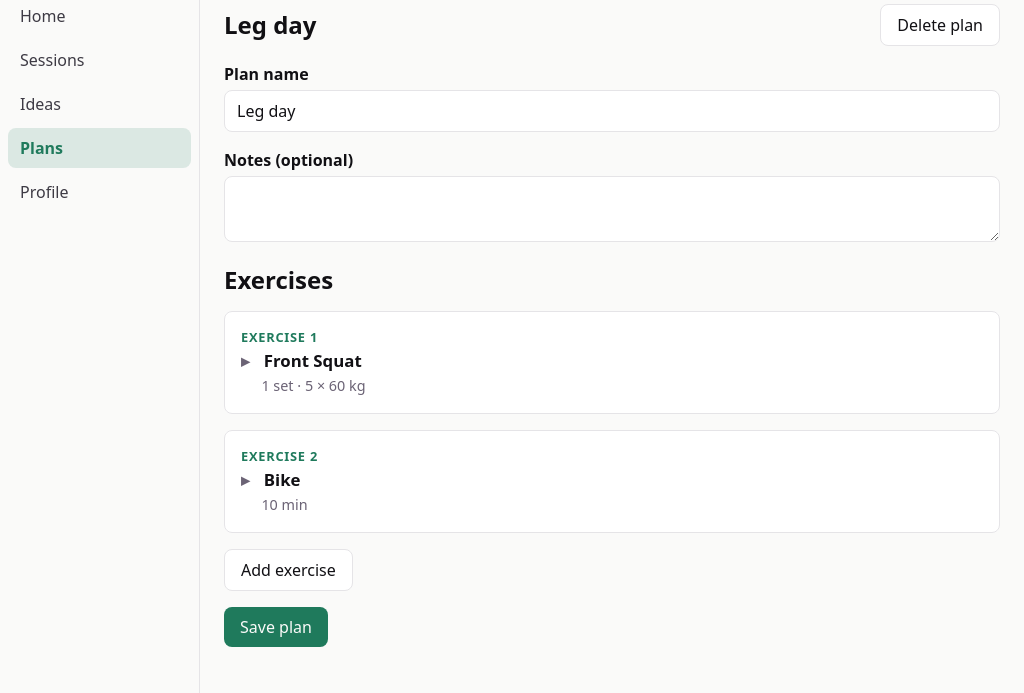
Test case: editing a plan › offers Save as new plan when sessions use the targets it changes
Expected: the field labelled "Plan name" is shown, [224, 90, 1000, 132]
Click the button "▸ Front Squat" at (313, 360), box [241, 351, 983, 371]
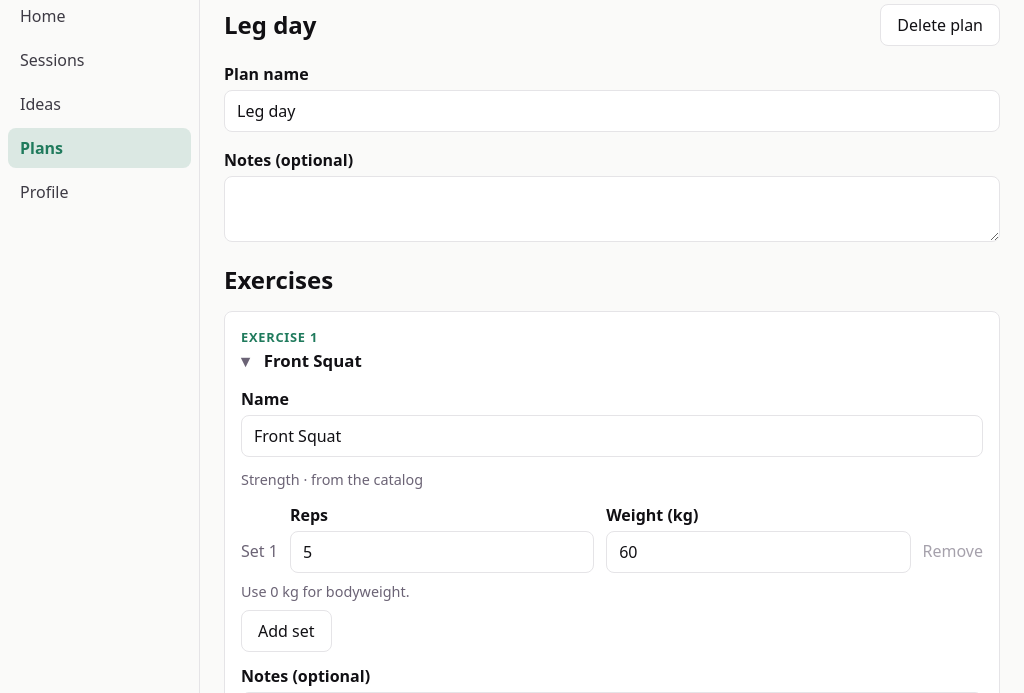
Replace the text in the field labelled "Reps" with "8" at (442, 552), box [290, 531, 594, 573]
(page scrolled)
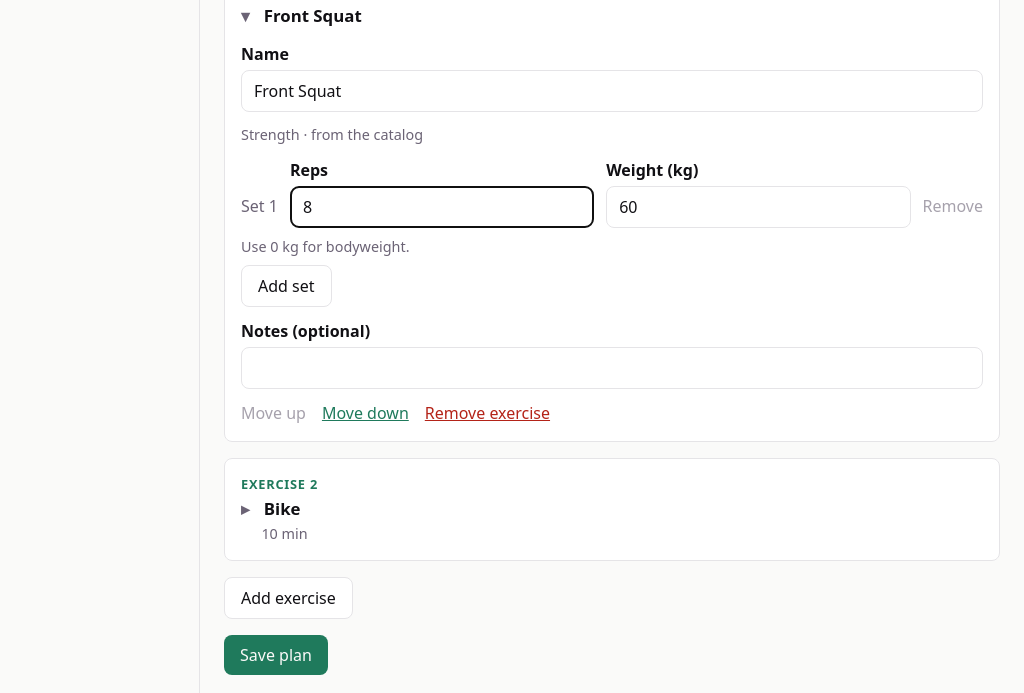
Click the button "Save plan" at (276, 655), box [224, 635, 328, 675]
(page scrolled)
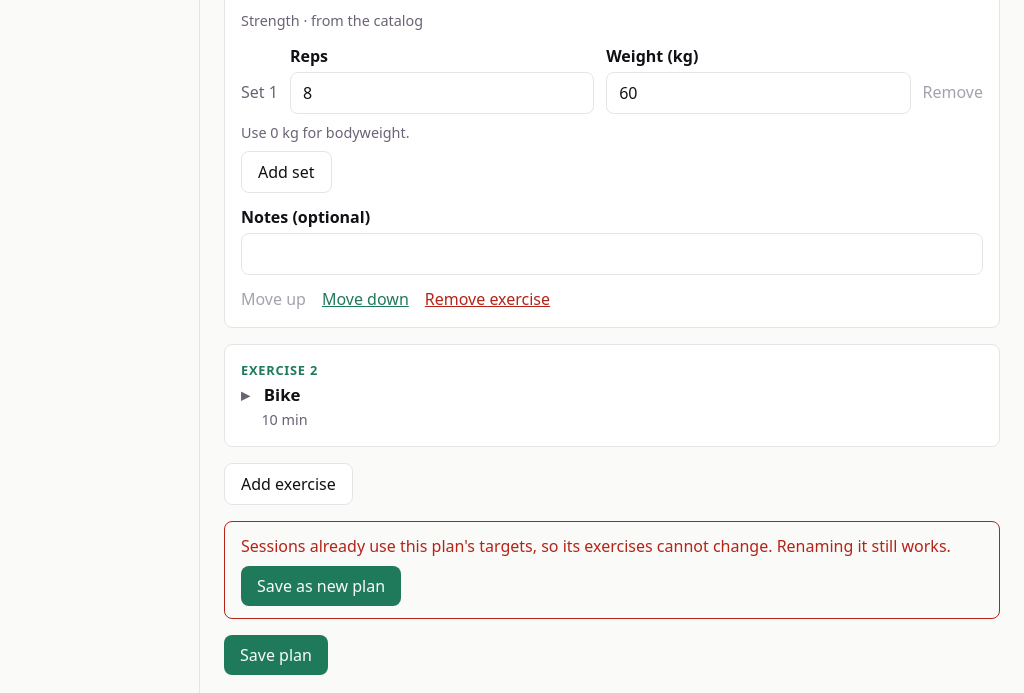
Result: the message shows "Sessions already use this plan's targets" at [241, 535, 951, 557]
Click the button "Save as new plan" at (321, 586), box [241, 566, 401, 606]
(page scrolled)
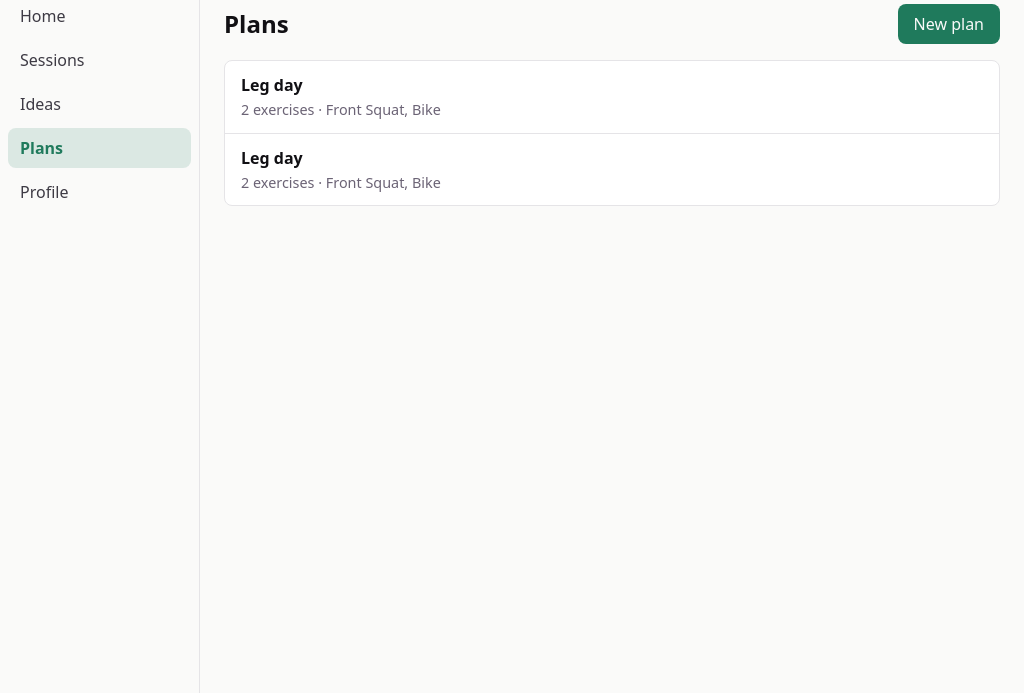
Result: the heading "Plans" is shown at [224, 10, 289, 38]
Result: the 1st text "Leg day" is shown at [241, 74, 303, 96]
